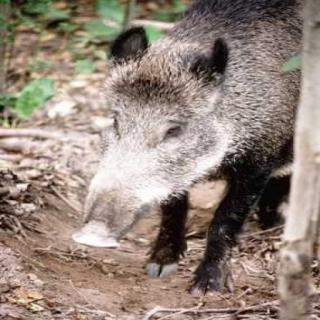Pig: (59, 0, 320, 299)
